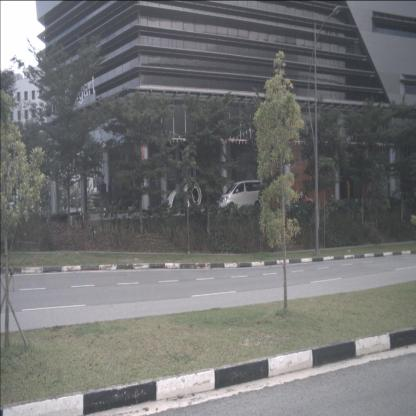human-pedestrian-adult: (299, 188, 304, 208)
vehicle-car: (219, 180, 264, 213), (287, 191, 313, 207)
